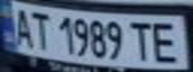1: (51, 12, 75, 54)
8: (87, 17, 109, 60)
9: (103, 17, 130, 61), (69, 15, 90, 56)
A: (6, 5, 36, 48)
E: (148, 18, 190, 65)
T: (127, 18, 157, 62), (27, 8, 54, 51)
